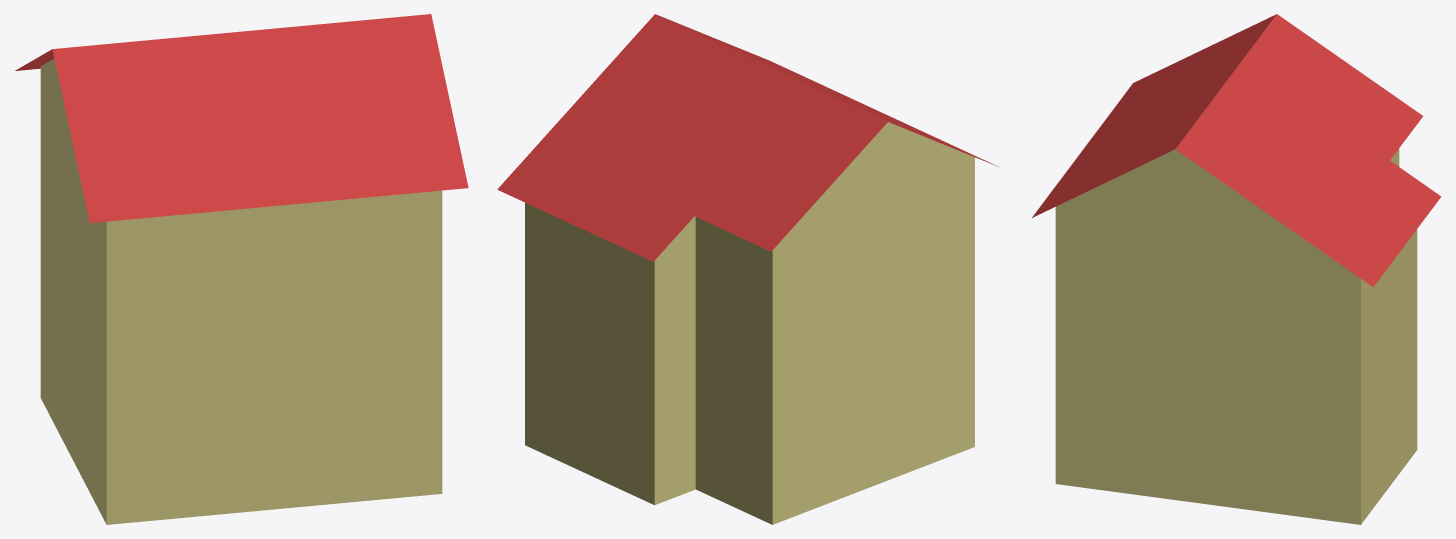
The picture shows the model from 3 angles, left to right: view 1: azimuth 30°, elevation 25°; view 2: azimuth 150°, elevation 25°; view 3: azimuth 270°, elevation 25°; orthographic projection. The views are drawn at different scales.
Bounding box in the file's own units: 11.18 × 10.69 × 10.34.
